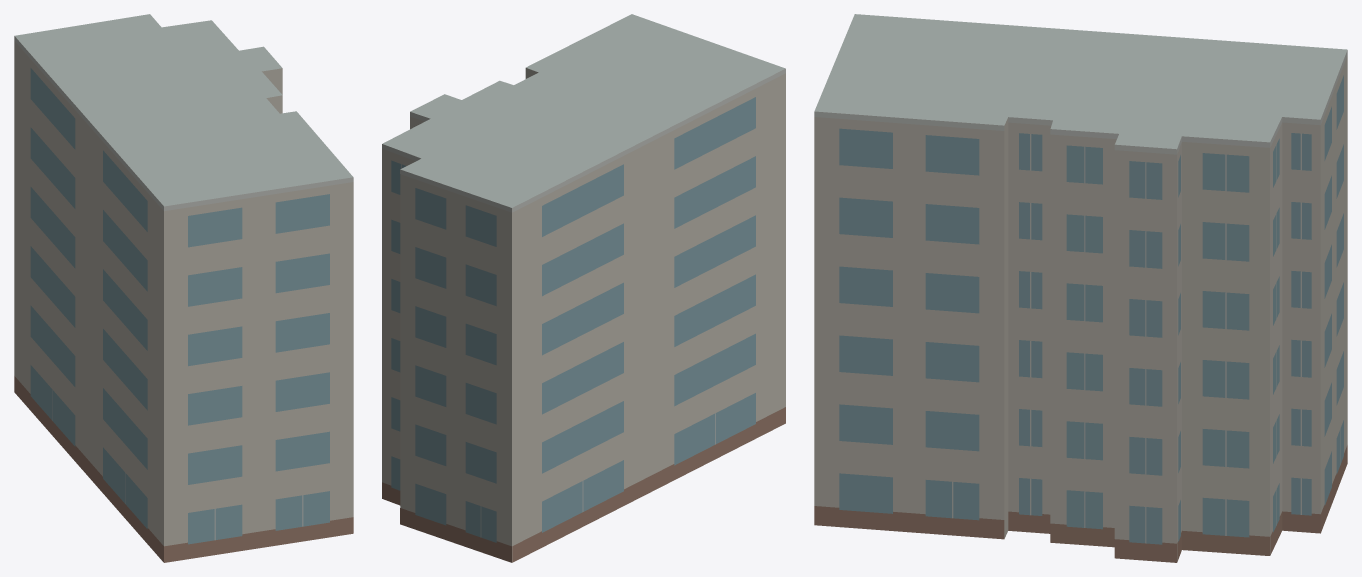
The model's file is survey-upis-32664596.glb.
3 views of the same model, side by side, from view 1: azimuth 30°, elevation 25°; view 2: azimuth 150°, elevation 25°; view 3: azimuth 270°, elevation 25° (orthographic). The views are drawn at different scales.
Parts seen in each view (by area): view 1: survey-upis-32664596.tmp; view 2: survey-upis-32664596.tmp; view 3: survey-upis-32664596.tmp.
Part boxes in pixels (left/top/right/bottom): survey-upis-32664596.tmp: left=14, top=14, right=353, bottom=562; survey-upis-32664596.tmp: left=382, top=14, right=785, bottom=562; survey-upis-32664596.tmp: left=814, top=14, right=1347, bottom=562.
Bounding box in the file's own units: 12.87 × 18.35 × 21.45.
